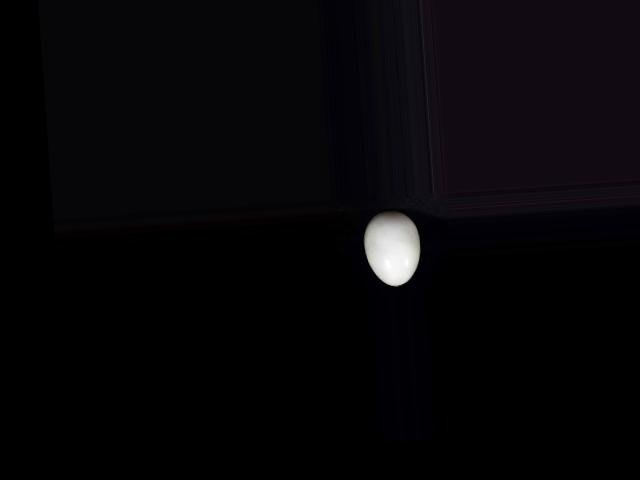egg: (363, 207, 422, 287)
